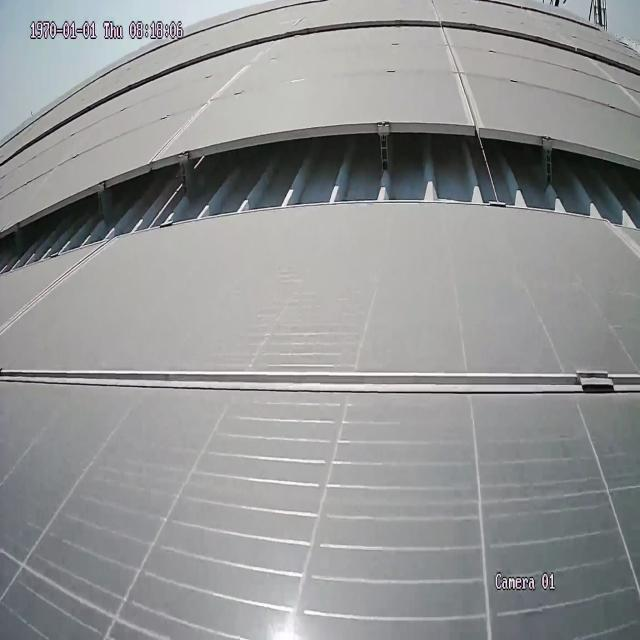interior panel: (0, 362, 637, 396), (148, 55, 266, 156), (4, 248, 108, 339), (439, 30, 483, 120), (607, 227, 639, 258)
outher panel: (0, 121, 640, 278)
